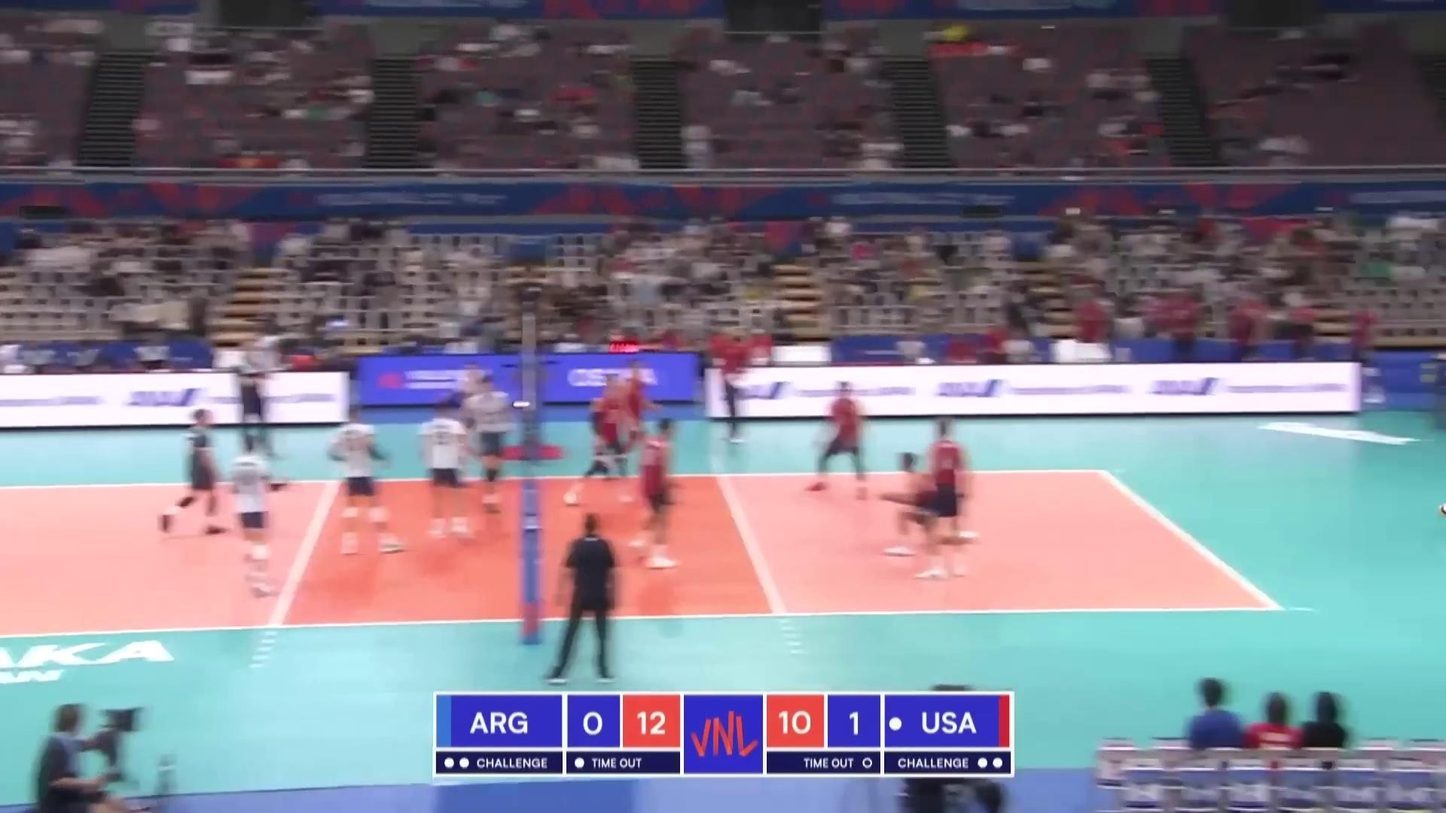player: (882, 450, 979, 562), (330, 406, 402, 556), (563, 373, 633, 507), (154, 407, 228, 532), (232, 436, 286, 599), (918, 418, 969, 582), (807, 382, 871, 499), (632, 419, 680, 570), (417, 401, 468, 541), (471, 375, 512, 515), (458, 363, 495, 469), (619, 364, 654, 474)
refree: (551, 513, 618, 681)
